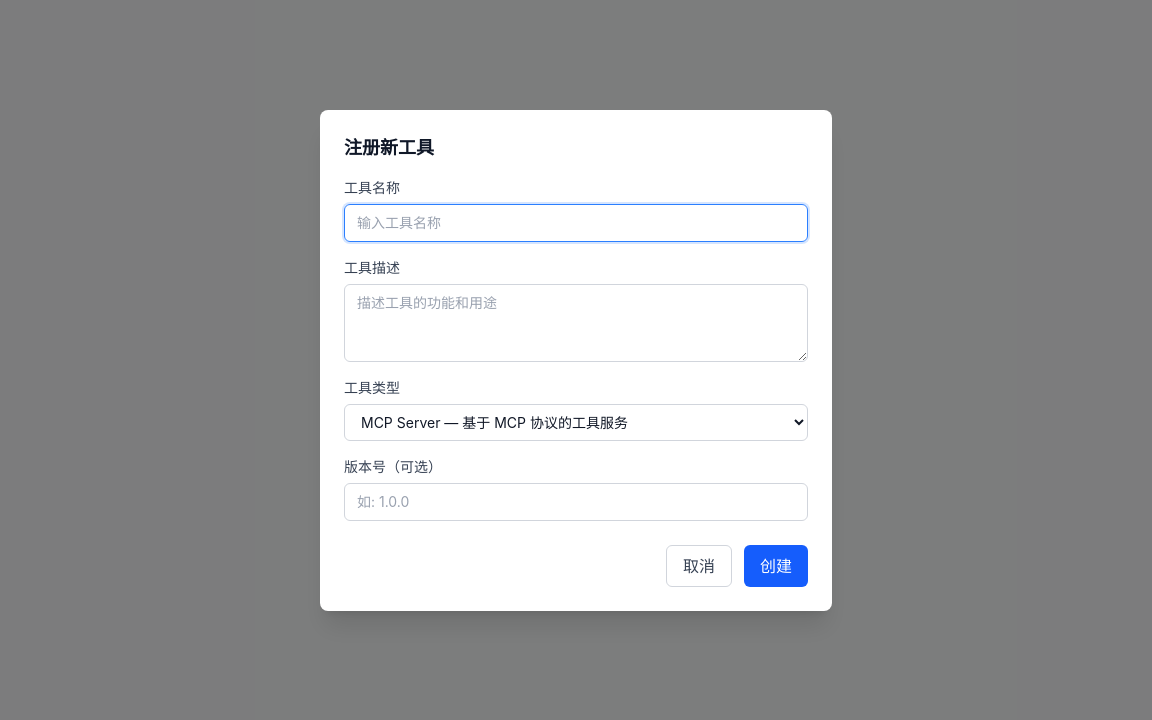
Test case: ToolRegisterDialog › 应该显示表单验证错误
The width and height of the screenshot is (1152, 720).
直接点击创建按钮，不填写任何表单
Click the button "创建" at (776, 566), box [744, 544, 808, 586]
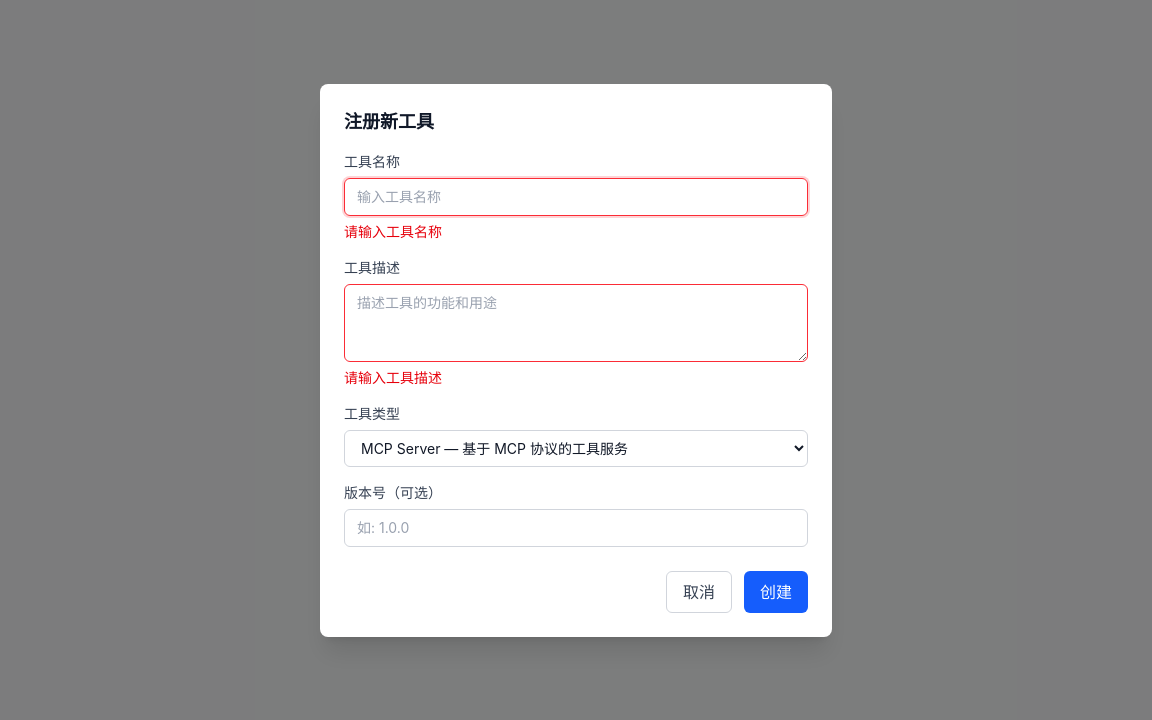
Now the text "请输入工具名称" is shown, box [344, 222, 442, 240]
Now the text "请输入工具描述" is shown, box [344, 368, 442, 386]
